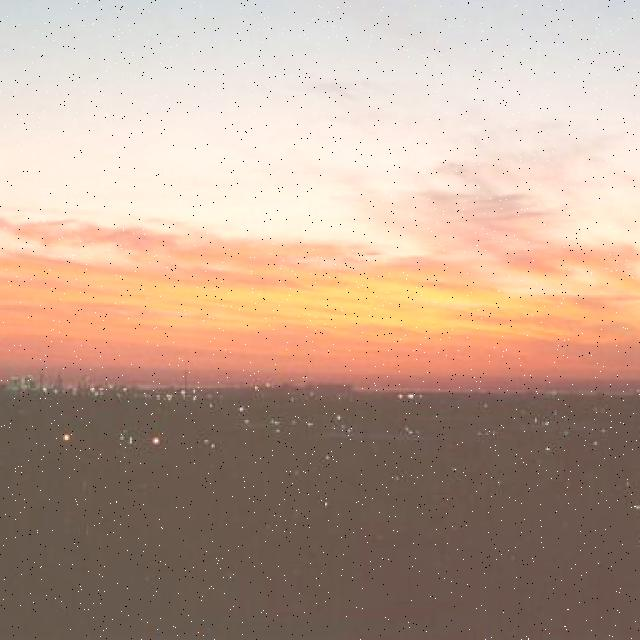Cs: (1, 97, 640, 373)
